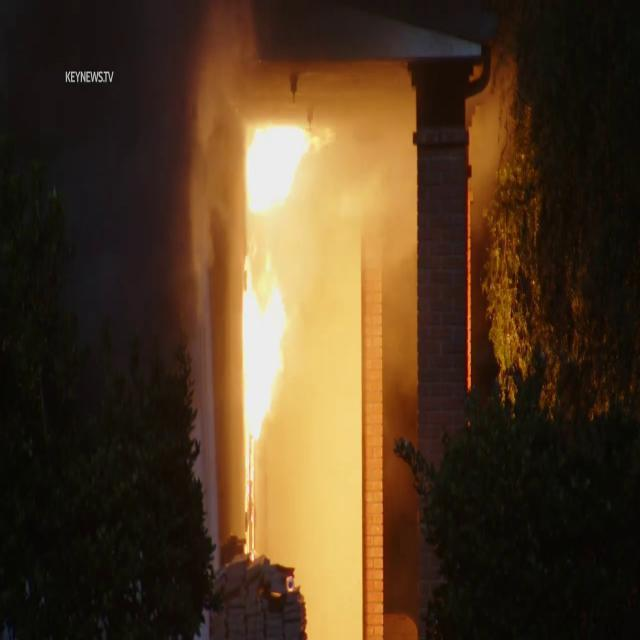Fire: (238, 230, 290, 464), (242, 113, 314, 219)
